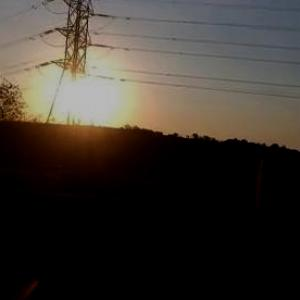follow: (37, 194, 100, 299)
